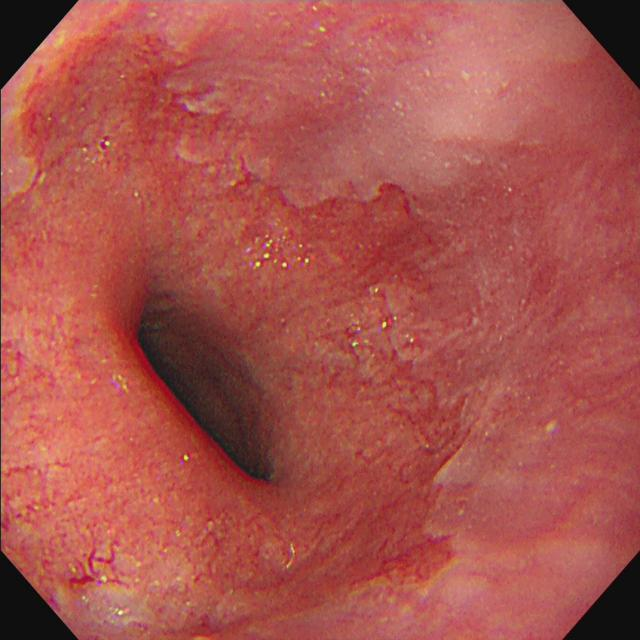D: (2, 335, 128, 619), (310, 302, 481, 475), (230, 159, 427, 243), (354, 519, 471, 613)
E: (123, 297, 279, 494)
U: (245, 232, 314, 274)
